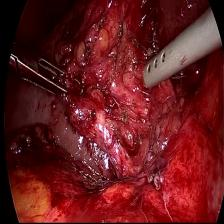Grasper: (20, 52, 83, 102)
Irrigator: (141, 39, 179, 93)
